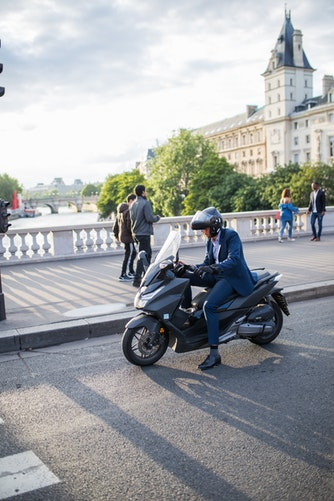helmet: (189, 209, 227, 235)
